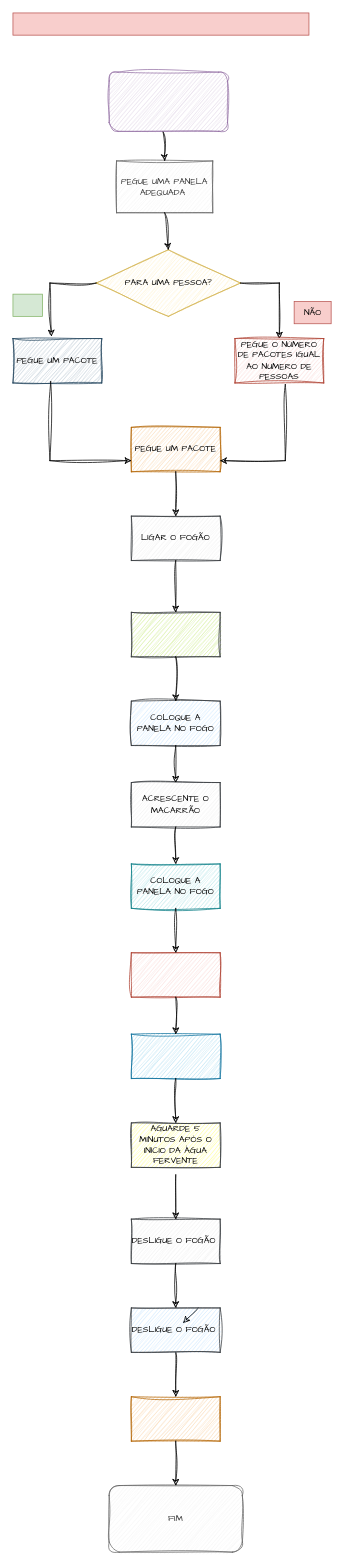
Some shapes in this 344 by 1565 pixel diagram are drawn without their labels. The shapes that lost their labels are listed below. From the top down, each one's centre as x and y in pixels, then its label:
At (x=160, y=23): "COMANDO PARA FAZER UM MACARRÃO INSTANTÂNEO".
At (x=168, y=101): "INÍCIO".
At (x=27, y=304): "SIM".
At (x=175, y=634): "COLOQUE AGUA NA PANELA".
At (x=175, y=974): "COLOQUE O TEMPERO".
At (x=175, y=1056): "MEXA O MACARRÃO PARA NÃO GRUDAR NA PANELA".
At (x=175, y=1418): "SIRVA O MACARRÃO".
